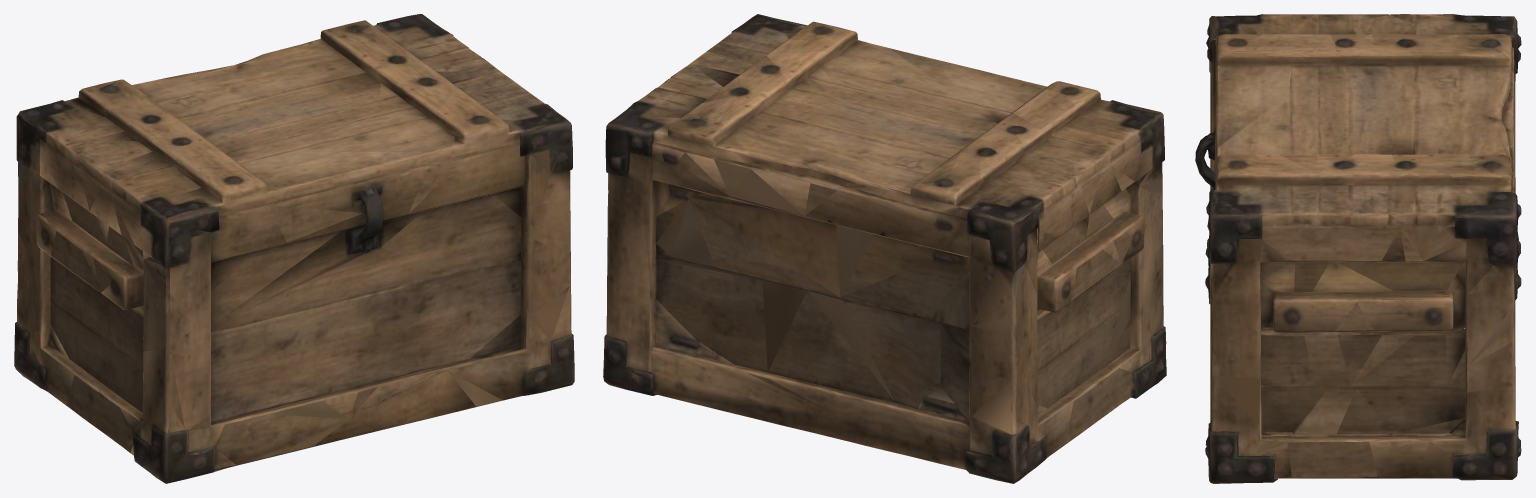
The model's file is prop_crate_small.glb.
3 views of the same model, side by side, from view 1: azimuth 30°, elevation 25°; view 2: azimuth 150°, elevation 25°; view 3: azimuth 270°, elevation 25° (orthographic).
Visible parts, largest first — view 1: prop; view 2: prop; view 3: prop.
Boxes of the visible parts, bbox=[...] form: prop: bbox=[14, 14, 574, 483]; prop: bbox=[603, 14, 1166, 483]; prop: bbox=[1195, 14, 1521, 483].
Size of the model in its own units: 0.5 by 0.3074 by 0.3199.
Materials: 1 (1 with a texture image).
